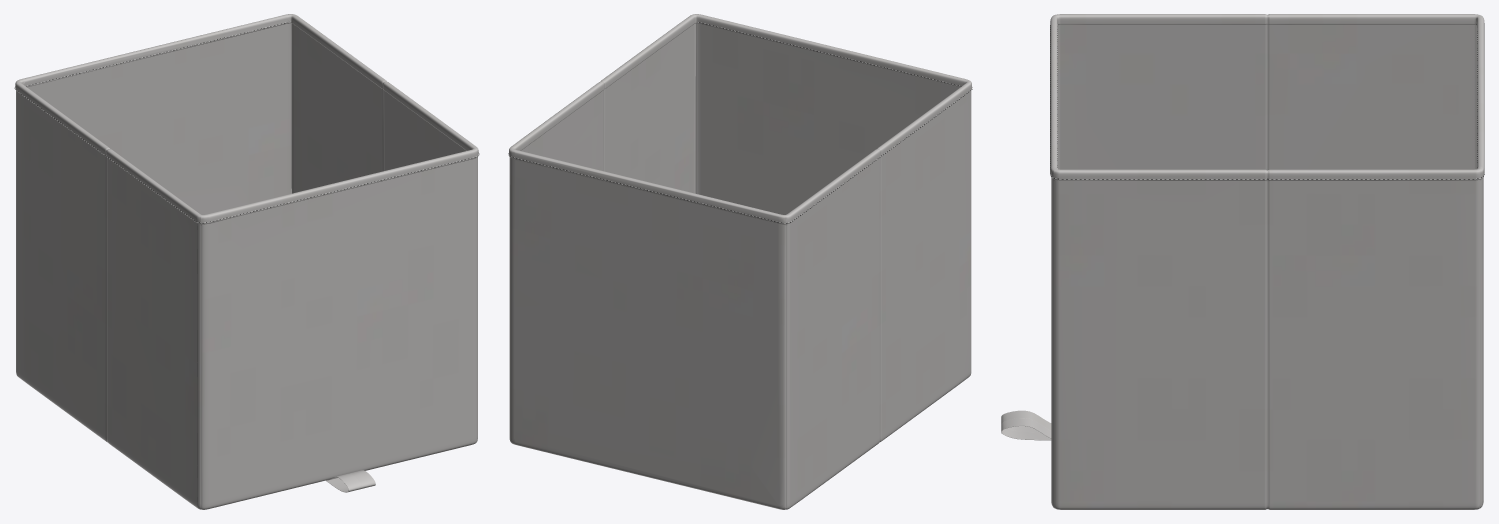
The model's file is kosingen_pudeko_10601082.glb.
The picture shows the model from 3 angles, left to right: view 1: azimuth 30°, elevation 25°; view 2: azimuth 150°, elevation 25°; view 3: azimuth 270°, elevation 25°; orthographic projection. The views are drawn at different scales.
Parts seen in each view (by area): view 1: kosingen_pudeko_10601082; view 2: kosingen_pudeko_10601082; view 3: kosingen_pudeko_10601082.
Part boxes in pixels (<box>): kosingen_pudeko_10601082: <box>14,14,479,509</box>; kosingen_pudeko_10601082: <box>508,14,972,509</box>; kosingen_pudeko_10601082: <box>1001,14,1484,509</box>.
Bounding box in the file's own units: 0.3319 × 0.33 × 0.4249.
Materials: 2 (2 with a texture image).
